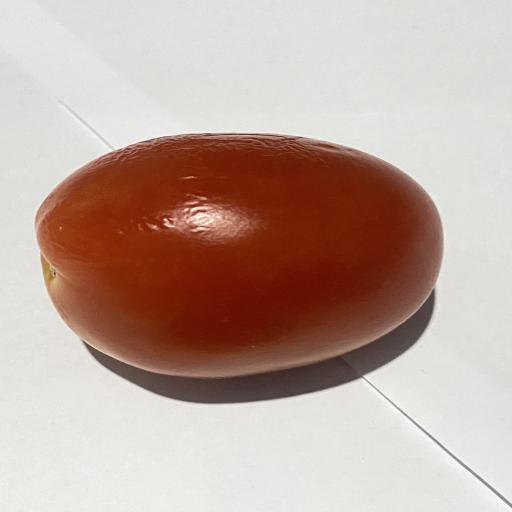overipe: (36, 133, 443, 378), (304, 203, 307, 205)
ripe: (173, 264, 175, 266)
